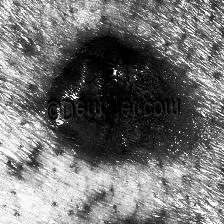Potentially Malignant Skin Tumors: (38, 43, 190, 97), (44, 121, 180, 166)
